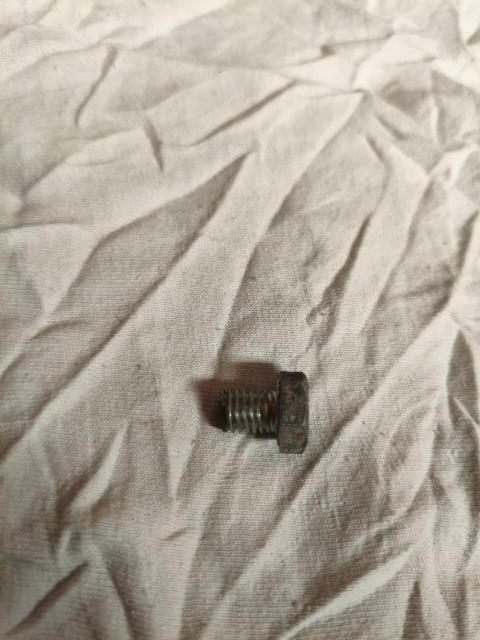Metal: (213, 365, 312, 455)
